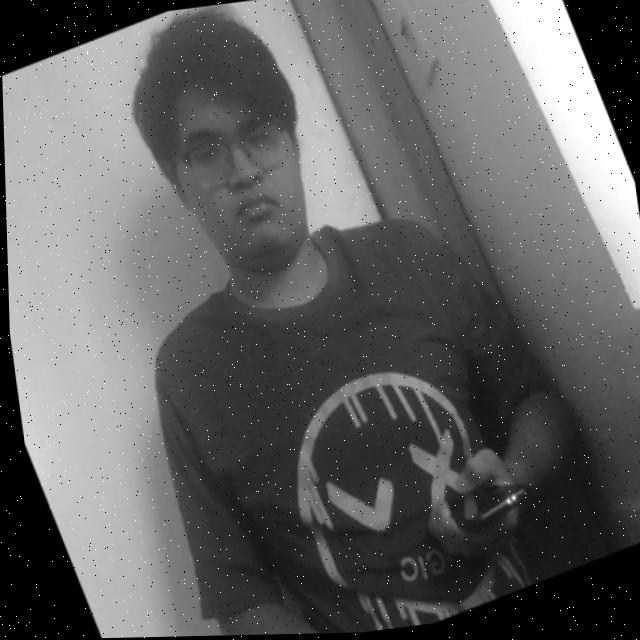phone: (426, 441, 548, 563)
